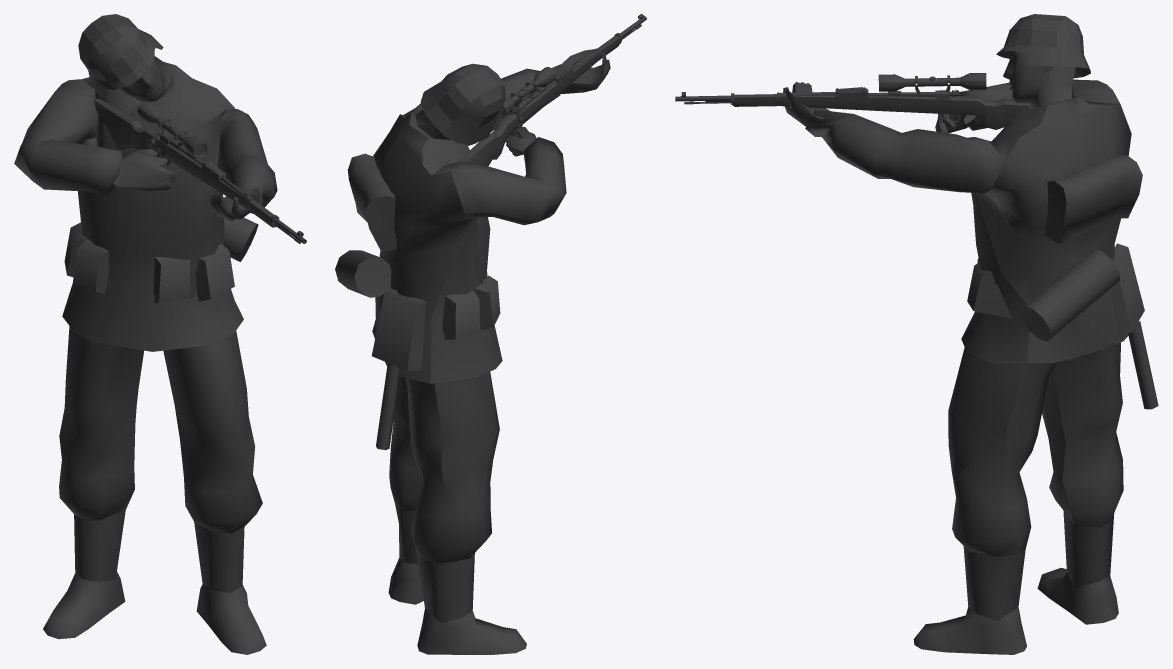
The model's file is de_ott_piedi.glb.
3 views of the same model, side by side, from view 1: azimuth 30°, elevation 25°; view 2: azimuth 150°, elevation 25°; view 3: azimuth 270°, elevation 25° (orthographic). The views are drawn at different scales.
Visible parts, largest first — view 1: german_03.000_german_03.002_2; view 2: german_03.000_german_03.002_2; view 3: german_03.000_german_03.002_2.
Part boxes in pixels (bbox=[...]): german_03.000_german_03.002_2: bbox=[14, 14, 306, 654]; german_03.000_german_03.002_2: bbox=[335, 14, 646, 654]; german_03.000_german_03.002_2: bbox=[675, 14, 1158, 654].
Size of the model in its own units: 0.2058 by 0.5 by 0.3691.
Materials: 1 (1 with a texture image).
